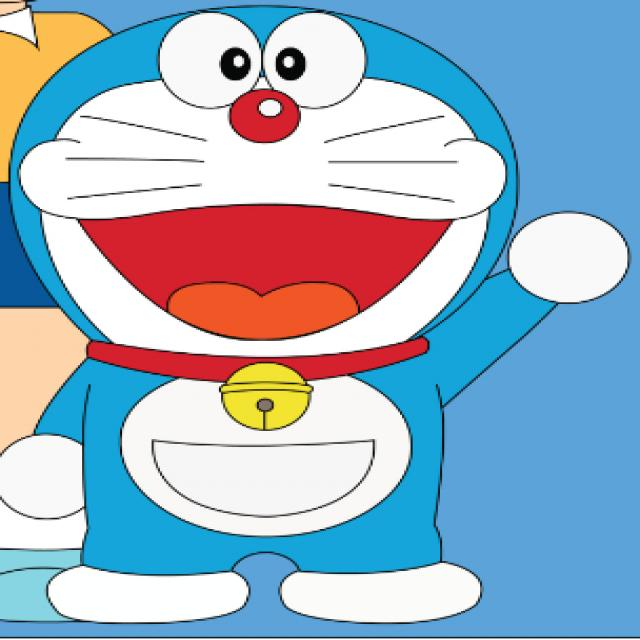Ameng: (13, 0, 585, 406)
